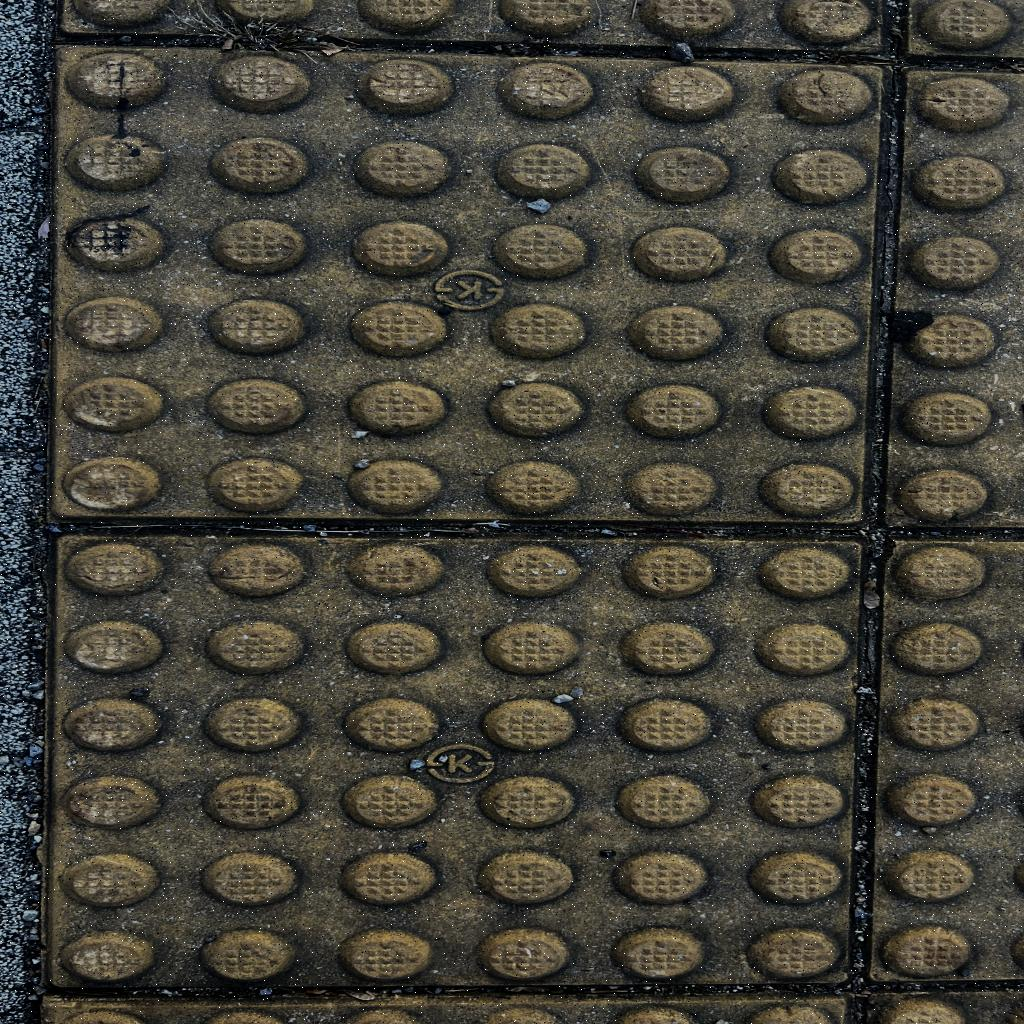Stop block normal: (66, 538, 839, 985)
